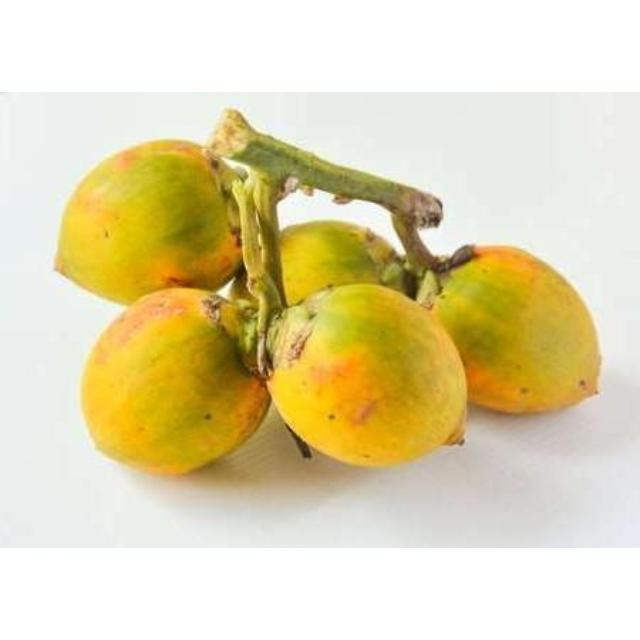good: (264, 280, 468, 466), (78, 286, 272, 474), (55, 140, 242, 304), (428, 244, 600, 416), (268, 222, 400, 304)
